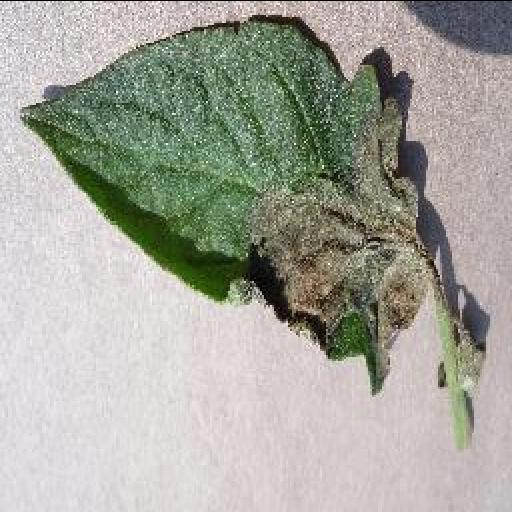disease_tomato: (14, 16, 432, 400)
